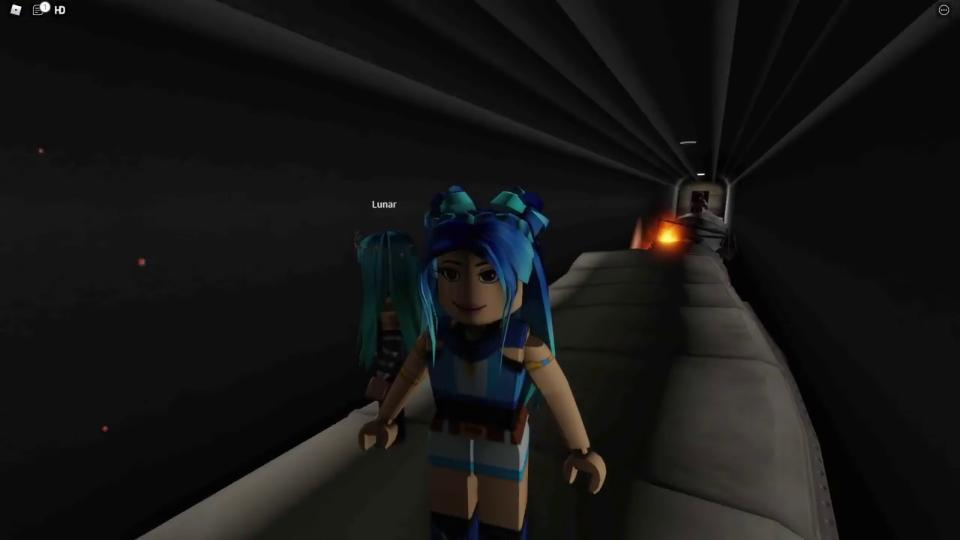Character: (356, 186, 606, 532)
